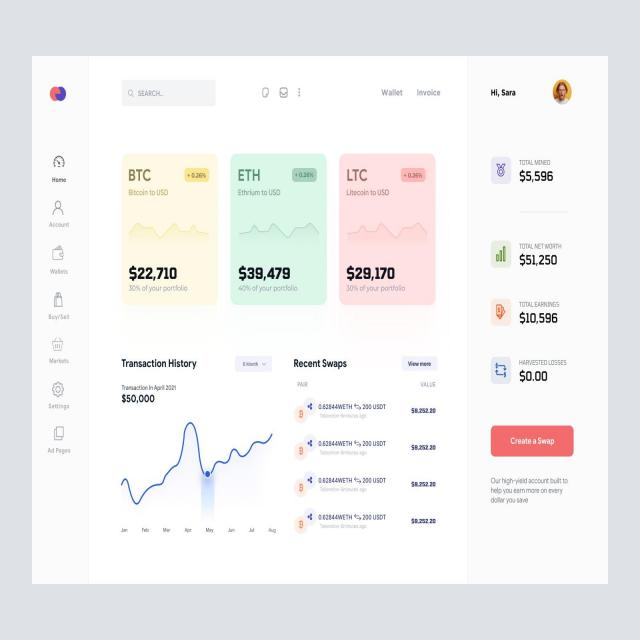button: (492, 426, 574, 457)
input: (121, 78, 215, 106)
select: (234, 355, 272, 372)
